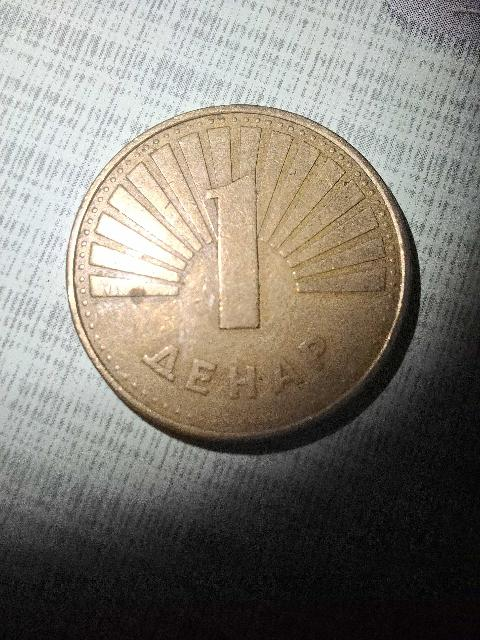coin: (68, 106, 410, 440)
